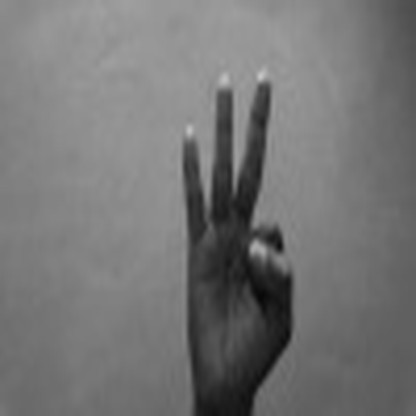f: (174, 63, 306, 403)
